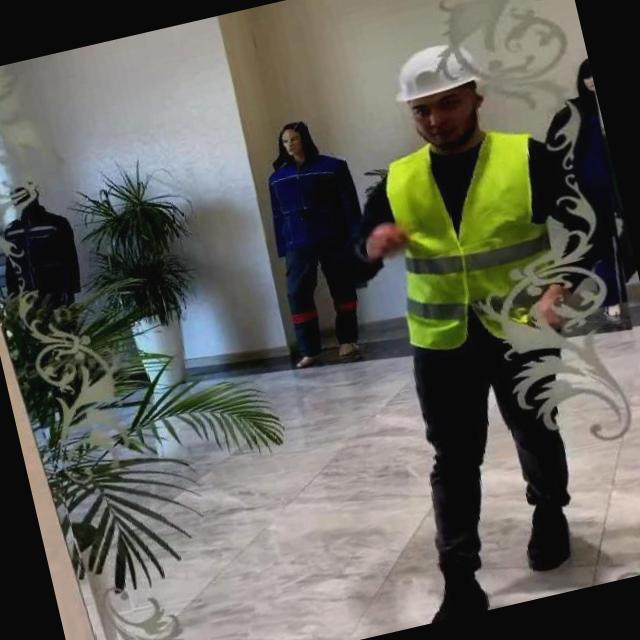vest: (364, 121, 579, 366)
